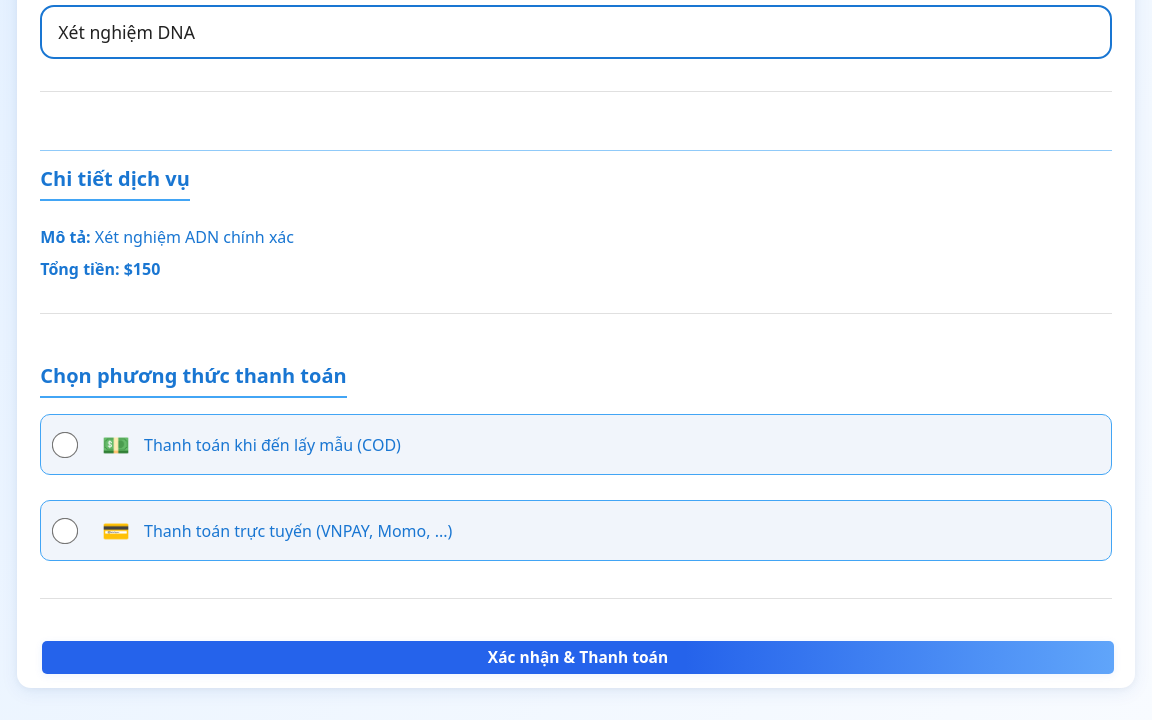
Test case: Payment › successfully processes payment flow
The image size is (1152, 720).
(page scrolled)
Click the radio button labelled "💵 Thanh toán khi đến lấy mẫu (COD)" at [65, 445], box [52,432,78,458]
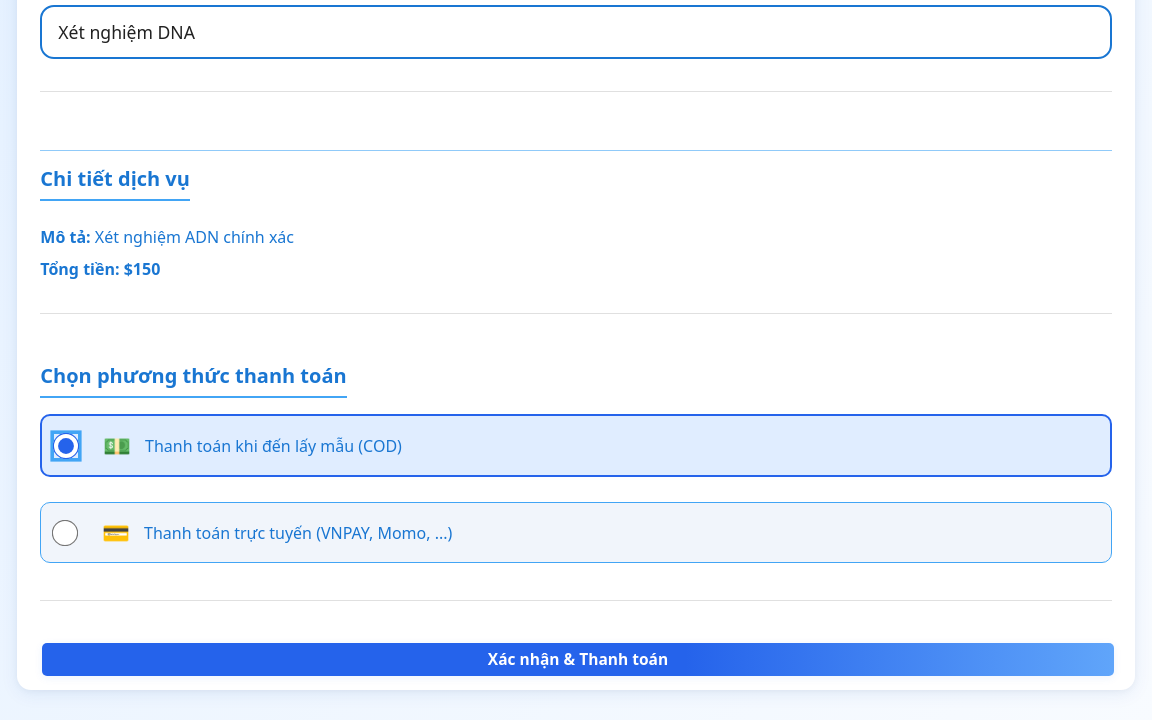
Click the button "Xác nhận & Thanh toán" at [578, 660], box [42,643,1114,676]
(page scrolled)
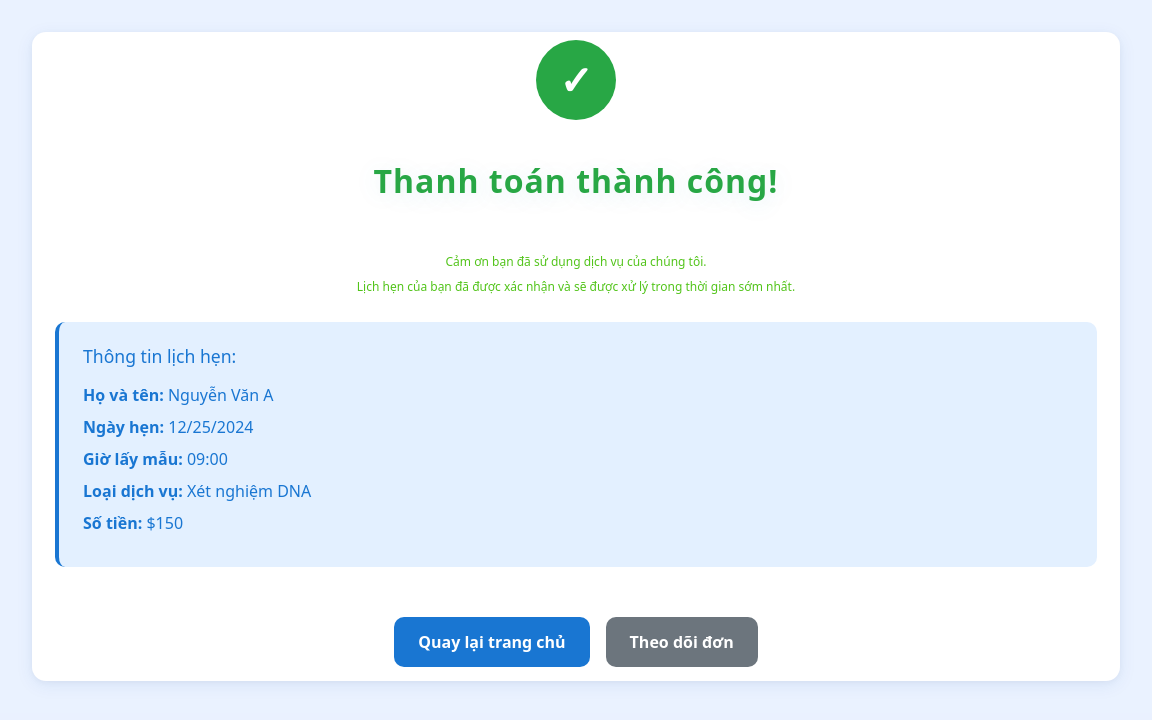
Expected: the heading "Thanh toán thành công!" is shown, [374,159,778,202]
